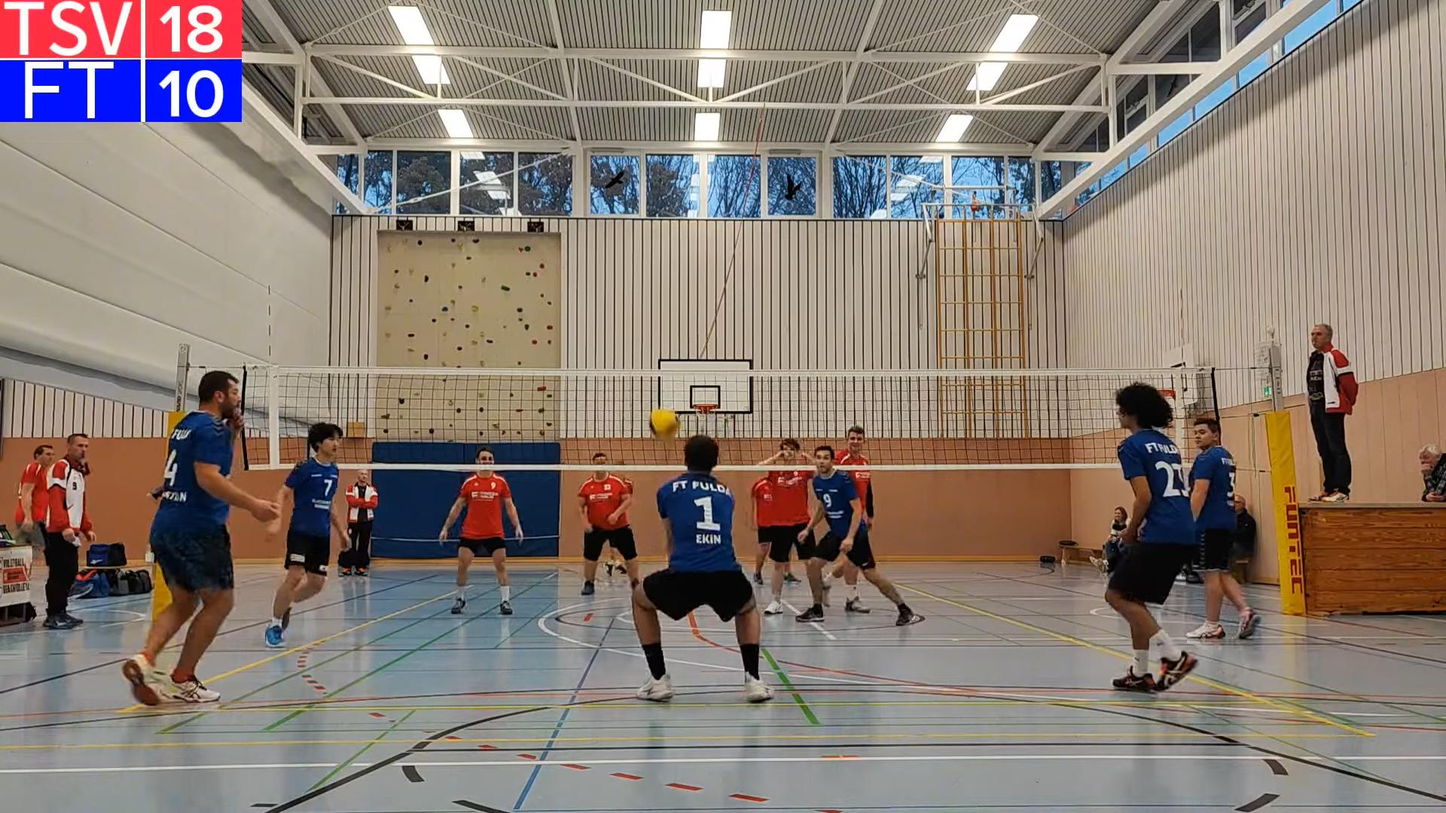ricezione: (613, 436, 784, 711)
